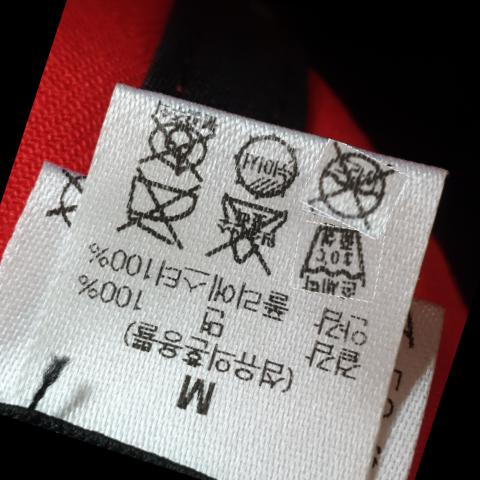DN_bleach: (214, 197, 291, 270)
DN_dry_clean: (316, 156, 391, 222)
DN_iron: (118, 175, 206, 243)
dry_flat_in_shade: (227, 131, 304, 199)
hand_wash: (301, 227, 371, 298)
